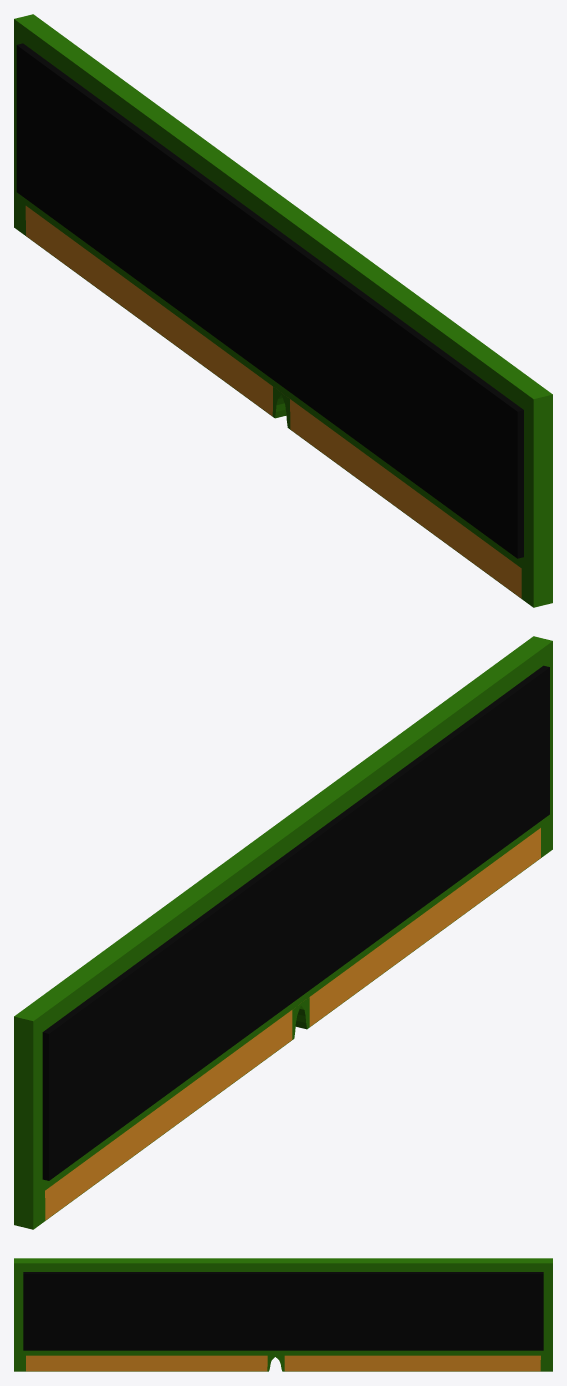
File: RAM.fbx
3 views of the same model, one above another, from view 1: azimuth 30°, elevation 25°; view 2: azimuth 150°, elevation 25°; view 3: azimuth 270°, elevation 25° (orthographic). The views are drawn at different scales.
Visible parts, largest first — view 1: Cube; view 2: Cube; view 3: Cube.
Boxes of the visible parts, x1,y1,x2,y2 form: Cube: (14,14,552,607); Cube: (14,636,552,1229); Cube: (14,1258,552,1371).
Bounding box in the file's own units: 5.12 × 30.2 × 136.
